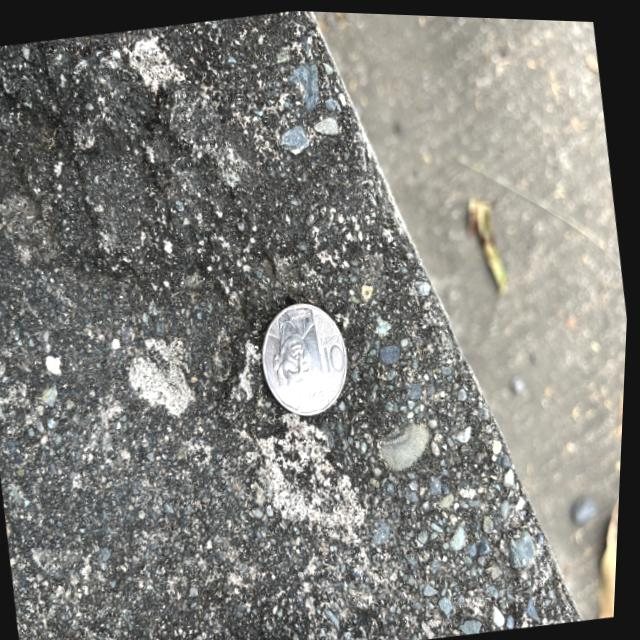10_New_Front: (311, 319, 357, 384)
